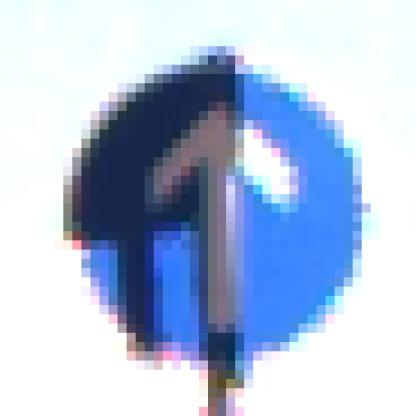AheadOnly: (46, 56, 372, 371)
